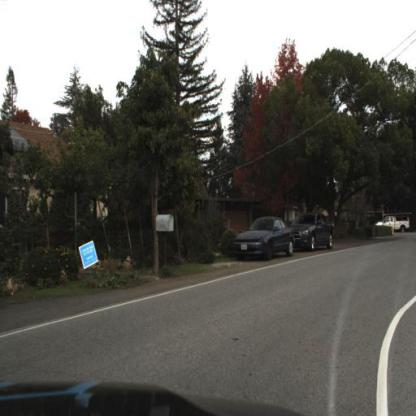car: (288, 208, 339, 261), (236, 217, 298, 259), (296, 211, 337, 258), (373, 213, 413, 238)
